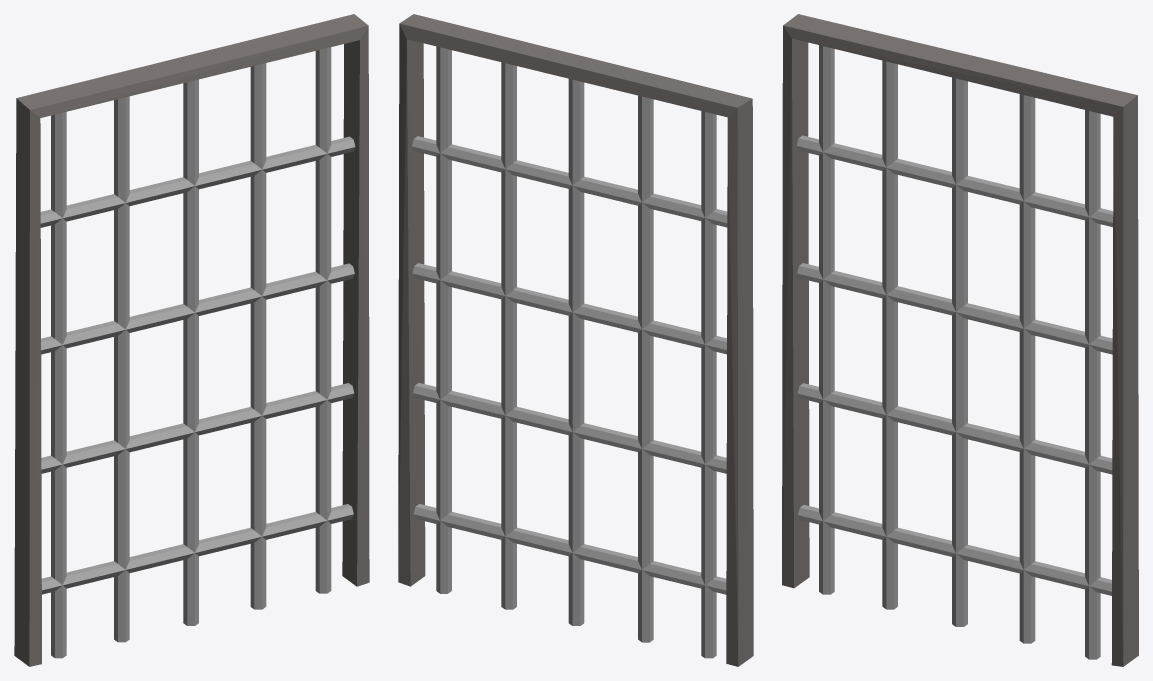
Rendered from SM_Door_C1.fbx.
3 views of the same model, side by side, from view 1: azimuth 30°, elevation 25°; view 2: azimuth 150°, elevation 25°; view 3: azimuth 330°, elevation 25° (orthographic).
Parts seen in each view (by area): view 1: SM_Door_C1; view 2: SM_Door_C1; view 3: SM_Door_C1.
Boxes of the visible parts, x1,y1,x2,y2 form: SM_Door_C1: (14, 14, 369, 666); SM_Door_C1: (398, 14, 753, 666); SM_Door_C1: (782, 14, 1138, 666).
Bounding box in the file's own units: 153 × 243 × 12.88.
Materials: 1 (1 with a texture image).
